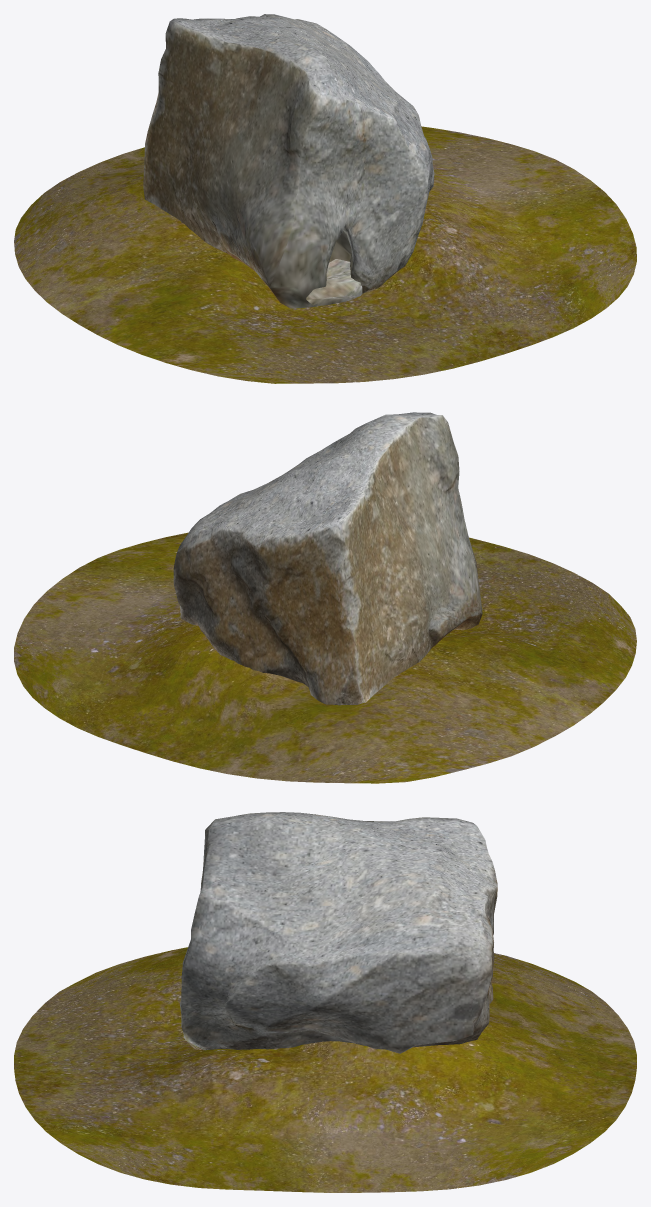
The model's file is Tafoni.gltf.
3 renders of one model, top to bottom at view 1: azimuth 30°, elevation 25°; view 2: azimuth 150°, elevation 25°; view 3: azimuth 270°, elevation 25°, orthographic. The views are drawn at different scales.
Visible parts, largest first — view 1: Plane.001, Rock-08.000, Rock-08.001; view 2: Plane.001, Rock-08.000; view 3: Plane.001, Rock-08.000.
Boxes of the visible parts, left/top/right/bottom form: Plane.001: left=14, top=126, right=636, bottom=383; Rock-08.000: left=143, top=14, right=434, bottom=308; Rock-08.001: left=306, top=259, right=362, bottom=306; Plane.001: left=14, top=532, right=636, bottom=783; Rock-08.000: left=173, top=412, right=482, bottom=705; Plane.001: left=14, top=947, right=636, bottom=1192; Rock-08.000: left=180, top=812, right=497, bottom=1053.
Bounding box in the file's own units: 1.83 × 0.7736 × 1.83.
Materials: 2 (2 with a texture image).
